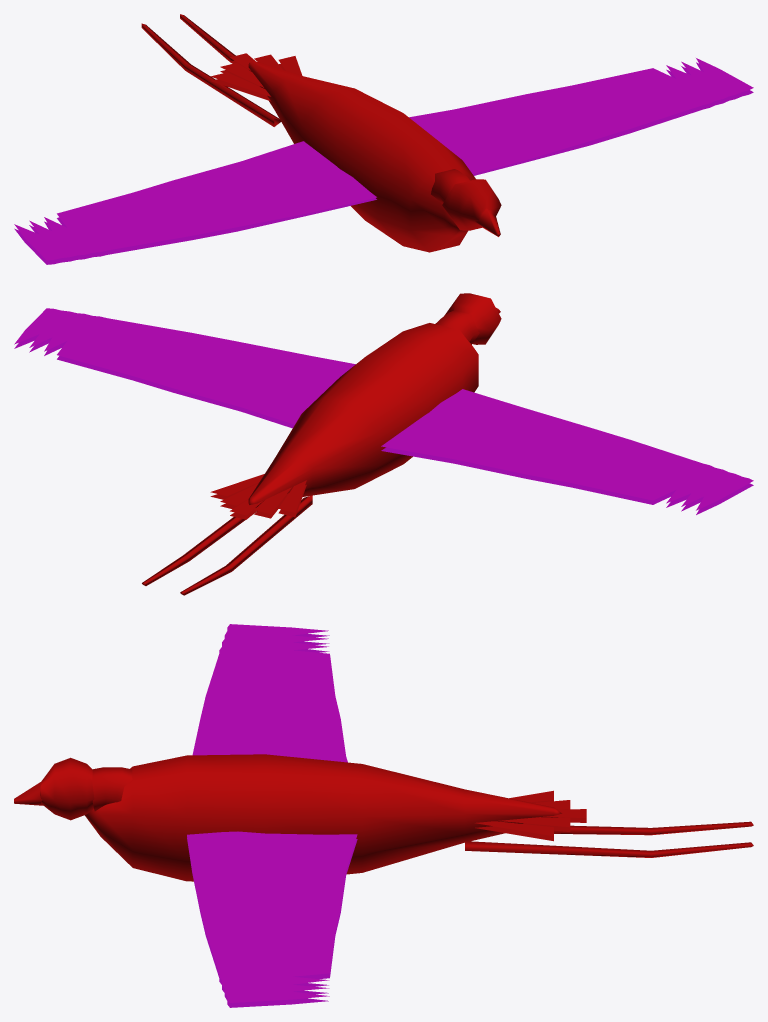
File: spoonbill.glb
3 renders of one model, top to bottom at view 1: azimuth 30°, elevation 25°; view 2: azimuth 150°, elevation 25°; view 3: azimuth 270°, elevation 25°, orthographic. The views are drawn at different scales.
Visible parts, largest first — view 1: bird; view 2: bird; view 3: bird.
Boxes of the visible parts, left/top/right/bottom form: bird: left=14, top=14, right=753, bottom=264; bird: left=14, top=293, right=753, bottom=595; bird: left=14, top=624, right=753, bottom=1007.
Size of the model in its own units: 1.3 by 0.1719 by 1.07.
